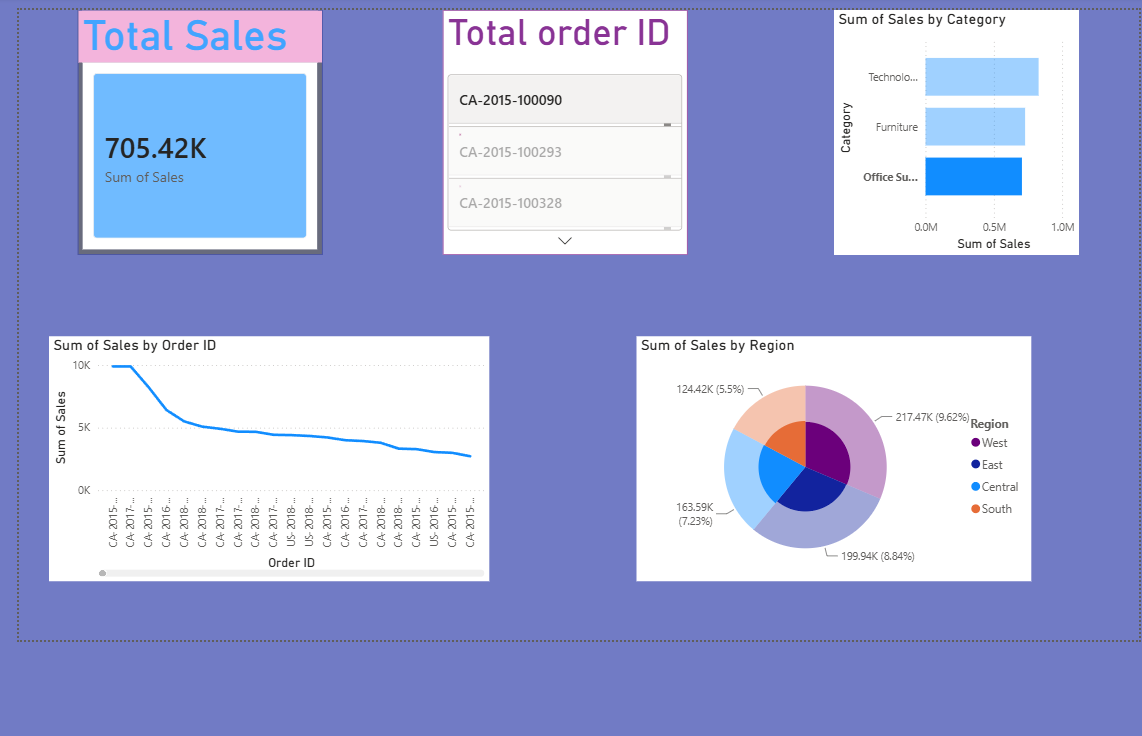

This screenshot's page, from the dashboard's own definition file:
{"tool":"powerbi","page":{"name":"Page 1","canvas":[1280,720],"ordinal":0},"visuals":[{"type":"cardVisual","title":"Total Sales","fields":{"Data":["Sum(train.Sales)"]},"box":[67.1,0,280,280],"z":0},{"type":"cardVisual","title":"Total order ID","fields":{"Rows":["train.Order ID"]},"box":[484.3,0,280,280],"z":1},{"type":"clusteredBarChart","fields":{"Category":["train.Category"],"Y":["Sum(train.Sales)"]},"box":[931.4,0,280,280],"z":2},{"type":"lineChart","fields":{"Category":["train.Order ID"],"Y":["Sum(train.Sales)"]},"box":[34.3,372.9,502.9,280],"z":3},{"type":"pieChart","fields":{"Category":["train.Region"],"Y":["Sum(train.Sales)"]},"box":[705.7,372.9,451.4,280],"z":4}]}

Visuals, with their boxes in screenshot pixels (x1, y1, x2, y2):
"Total Sales" cardVisual: left=71, top=6, right=317, bottom=252
"Total order ID" cardVisual: left=438, top=6, right=684, bottom=252
clusteredBarChart - train.Category x Sum(train.Sales): left=831, top=6, right=1078, bottom=252
lineChart - train.Order ID x Sum(train.Sales): left=42, top=334, right=485, bottom=580
pieChart - train.Region x Sum(train.Sales): left=633, top=334, right=1030, bottom=580
